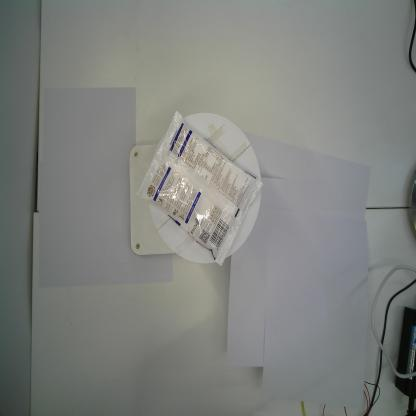Seasoner: (136, 108, 264, 266)
